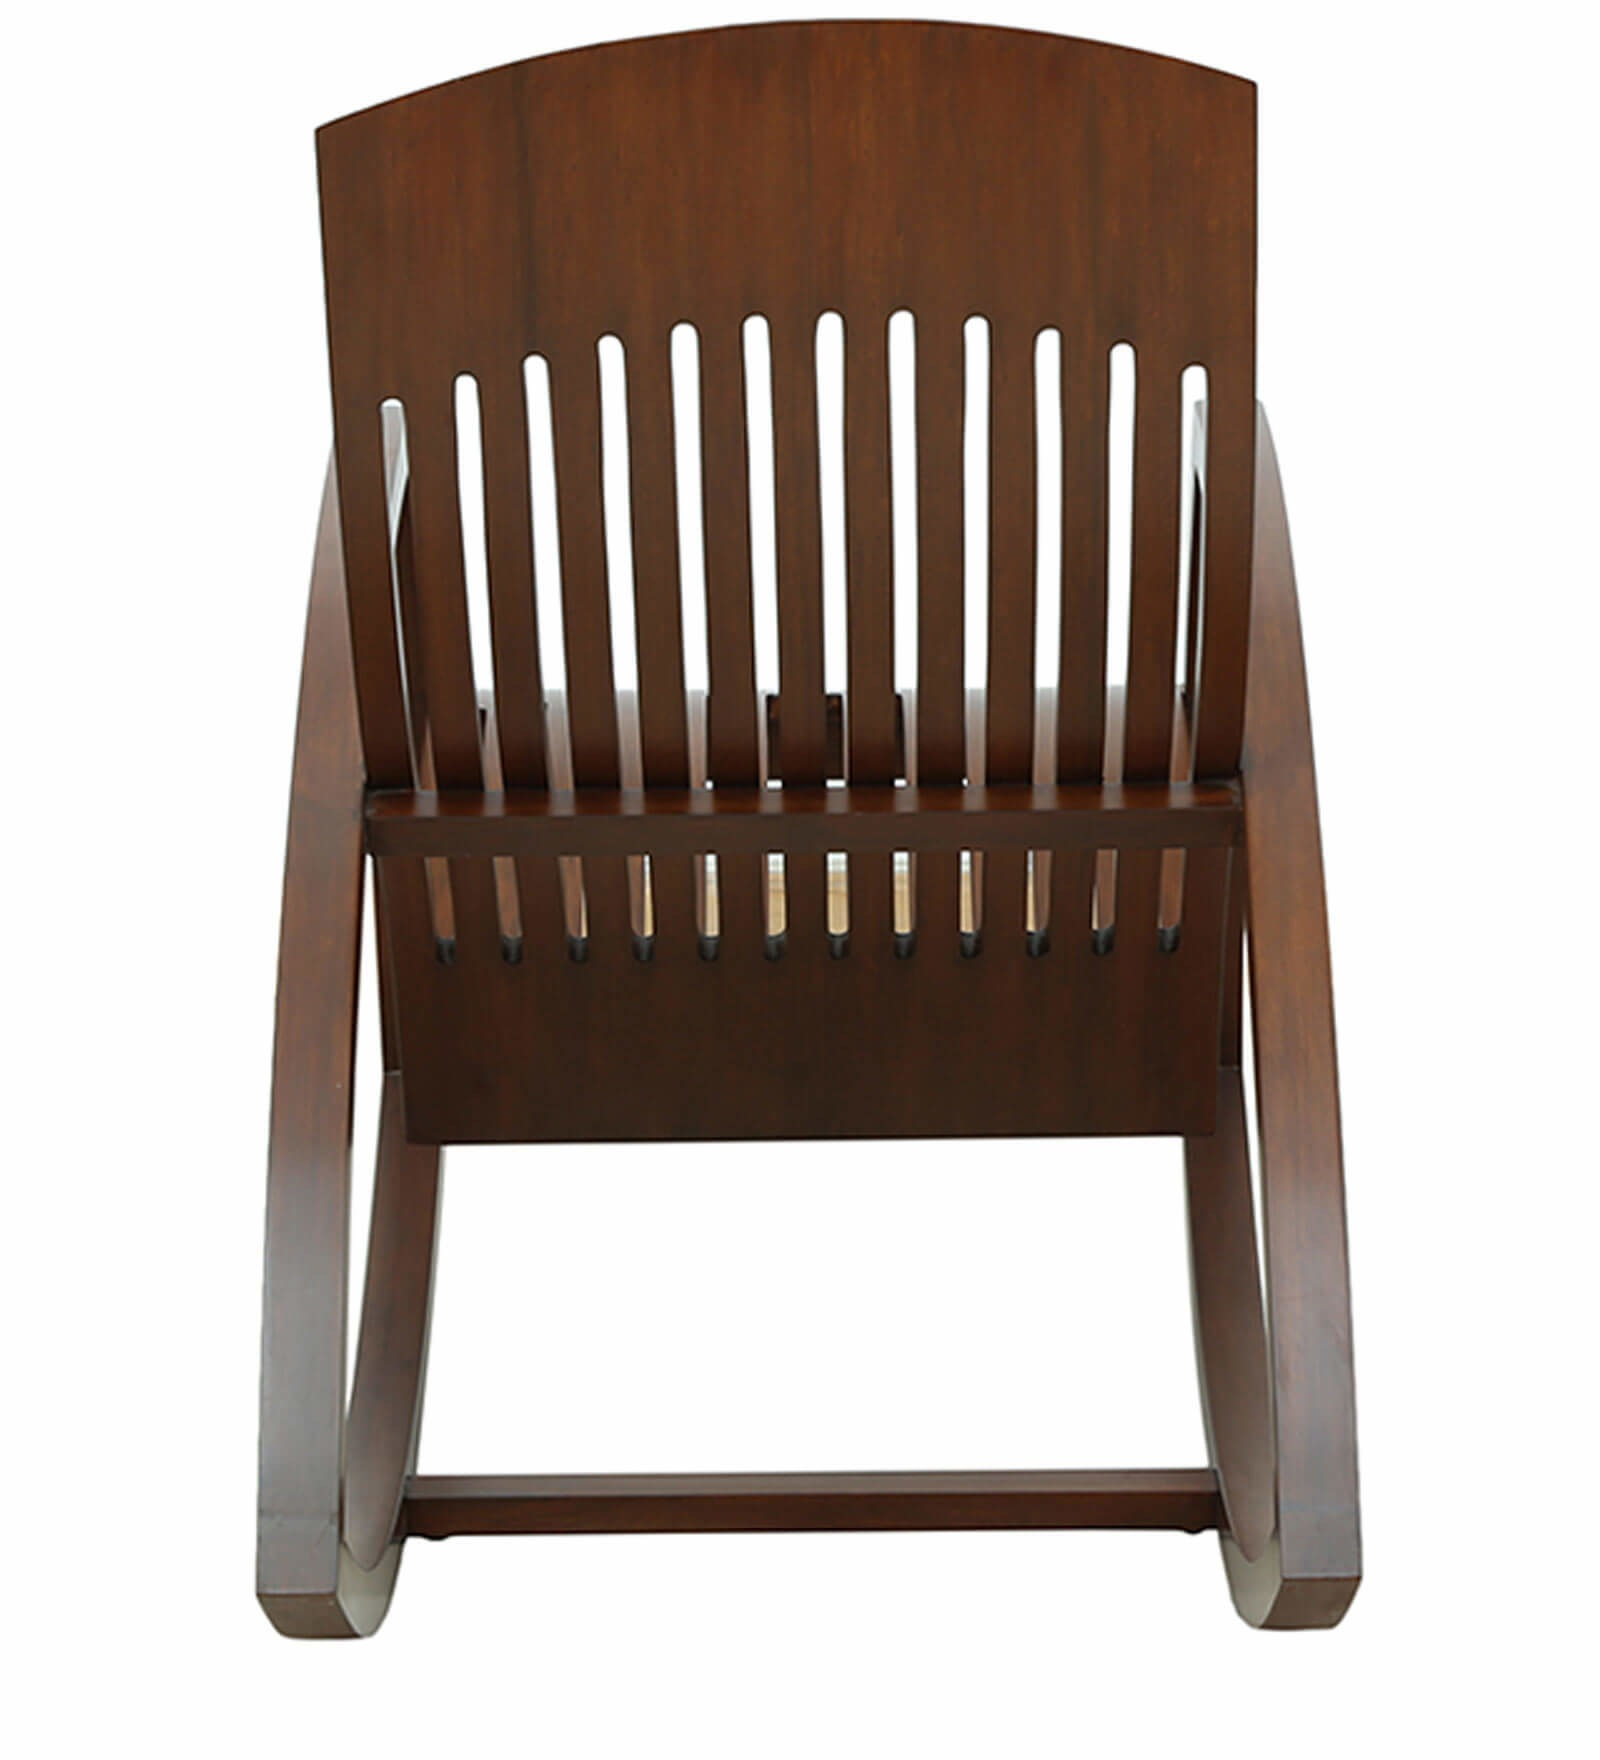Gaivota Rocking Chair in Semi-Gloss Walnut Finish by INDOORS: (244, 2, 1451, 1682)
